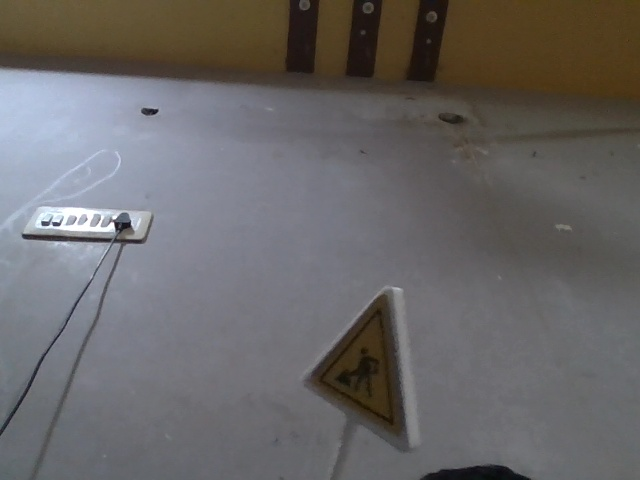workinprogress: (306, 290, 433, 438)
